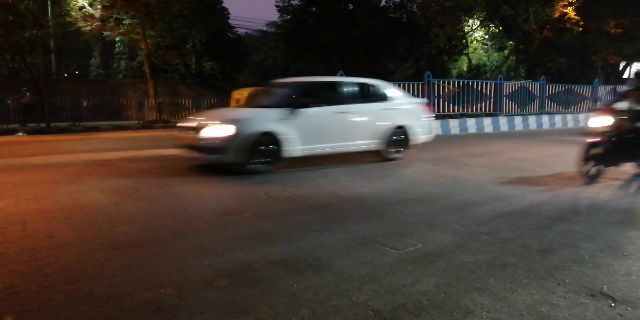Car: (179, 70, 444, 173)
